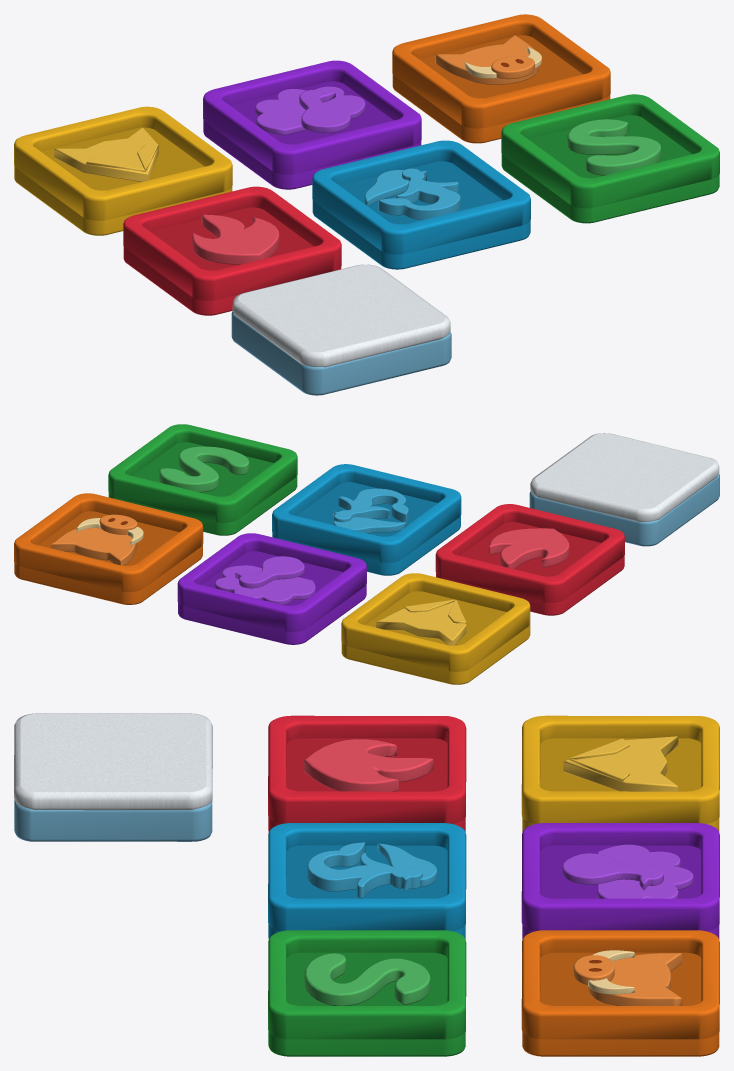
Rendered from all-seven-tiles.glb.
3 renders of one model, top to bottom at view 1: azimuth 30°, elevation 25°; view 2: azimuth 150°, elevation 25°; view 3: azimuth 270°, elevation 25°, orthographic. The views are drawn at different scales.
Visible parts, largest first — view 1: snow_frost_cap, fox_rounded_rim, boar_rounded_rim, peacock_rounded_rim, siren_rounded_rim, lava_rounded_rim, serpent_rounded_rim, snow_ice_base, serpent_snake, lava_flame, siren_base, serpent_base (+17 smaller); view 2: snow_frost_cap, fox_rounded_rim, siren_rounded_rim, lava_rounded_rim, peacock_rounded_rim, serpent_rounded_rim, boar_rounded_rim, snow_ice_base, serpent_snake, fox_base, lava_flame, peacock_base (+17 smaller); view 3: snow_frost_cap, serpent_rounded_rim, boar_rounded_rim, peacock_rounded_rim, siren_rounded_rim, lava_rounded_rim, fox_rounded_rim, snow_ice_base, lava_flame, serpent_snake, serpent_recess, fox_recess (+14 smaller).
Part boxes in pixels (x1=…): snow_frost_cap: x1=232, y1=264, x2=450, y2=367; fox_rounded_rim: x1=14, y1=106, x2=232, y2=220; boar_rounded_rim: x1=392, y1=14, x2=610, y2=128; peacock_rounded_rim: x1=203, y1=60, x2=421, y2=174; siren_rounded_rim: x1=312, y1=140, x2=530, y2=254; lava_rounded_rim: x1=123, y1=186, x2=341, y2=300; serpent_rounded_rim: x1=501, y1=94, x2=719, y2=208; snow_ice_base: x1=231, y1=311, x2=451, y2=395; serpent_snake: x1=567, y1=119, x2=660, y2=175; lava_flame: x1=192, y1=214, x2=279, y2=264; siren_base: x1=312, y1=200, x2=530, y2=269; serpent_base: x1=501, y1=154, x2=719, y2=223; snow_frost_cap: x1=530, y1=433, x2=719, y2=521; fox_rounded_rim: x1=341, y1=573, x2=530, y2=671; siren_rounded_rim: x1=272, y1=464, x2=461, y2=562; lava_rounded_rim: x1=435, y1=504, x2=624, y2=602; peacock_rounded_rim: x1=177, y1=533, x2=366, y2=631; serpent_rounded_rim: x1=108, y1=424, x2=297, y2=522; boar_rounded_rim: x1=14, y1=493, x2=203, y2=591; snow_ice_base: x1=529, y1=473, x2=719, y2=546; serpent_snake: x1=159, y1=446, x2=249, y2=492; fox_base: x1=341, y1=625, x2=530, y2=684; lava_flame: x1=489, y1=528, x2=569, y2=569; peacock_base: x1=178, y1=585, x2=366, y2=644; snow_frost_cap: x1=14, y1=713, x2=212, y2=810; serpent_rounded_rim: x1=268, y1=930, x2=466, y2=1039; boar_rounded_rim: x1=521, y1=930, x2=719, y2=1039; peacock_rounded_rim: x1=521, y1=823, x2=719, y2=931; siren_rounded_rim: x1=268, y1=823, x2=466, y2=931; lava_rounded_rim: x1=268, y1=715, x2=466, y2=823; fox_rounded_rim: x1=521, y1=715, x2=719, y2=823; snow_ice_base: x1=14, y1=799, x2=212, y2=841; lava_flame: x1=303, y1=739, x2=433, y2=791; serpent_snake: x1=304, y1=953, x2=430, y2=1005; serpent_recess: x1=286, y1=952, x2=447, y2=1005; fox_recess: x1=540, y1=738, x2=701, y2=791.
Bounding box in the file's own units: 3.56 × 0.282 × 3.56.
22 materials, 1 textured.
